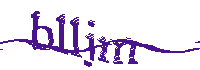b: (30, 9, 52, 51)
j: (83, 17, 98, 68)
l: (69, 14, 83, 59), (55, 14, 69, 56)
m: (98, 34, 141, 66)
